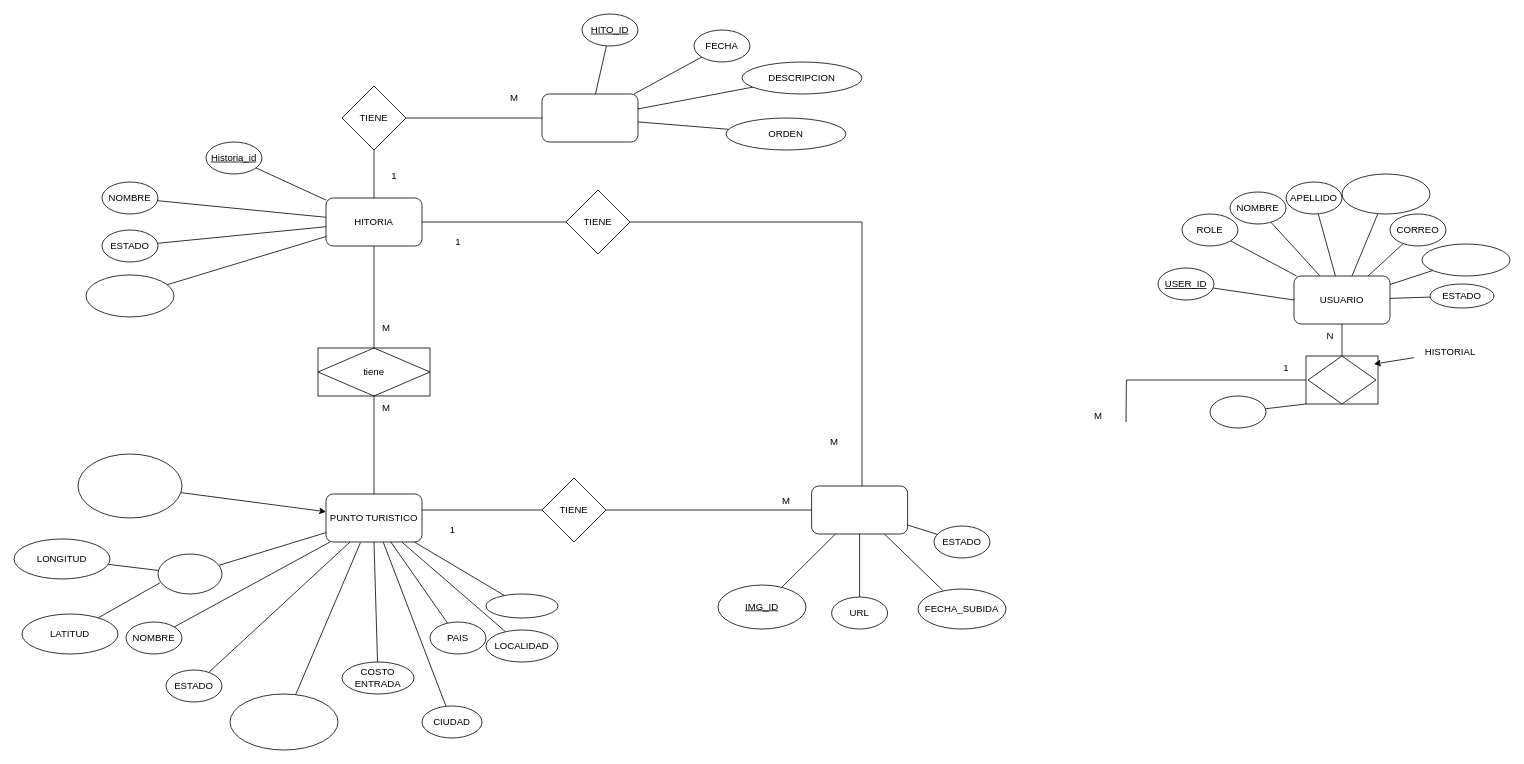
This 1524x764 diagram has some shape labels left out. The centre of each missing label's shape, as x and y in pixels:
CONTRASEÑA: point 1465,259
FECHA DE NACIMIENTO: point 1385,193
Fecha_de creacion: point 129,485
fecha_hora: point 1237,411
HITO_HISTORICO: point 589,117
HORARIO APERTURA/CIERE: point 283,721
IMAGEN: point 859,509
informacion: point 129,295
LUAR_ID: point 521,605
UBICACION: point 189,573
VISITA: point 1341,379
